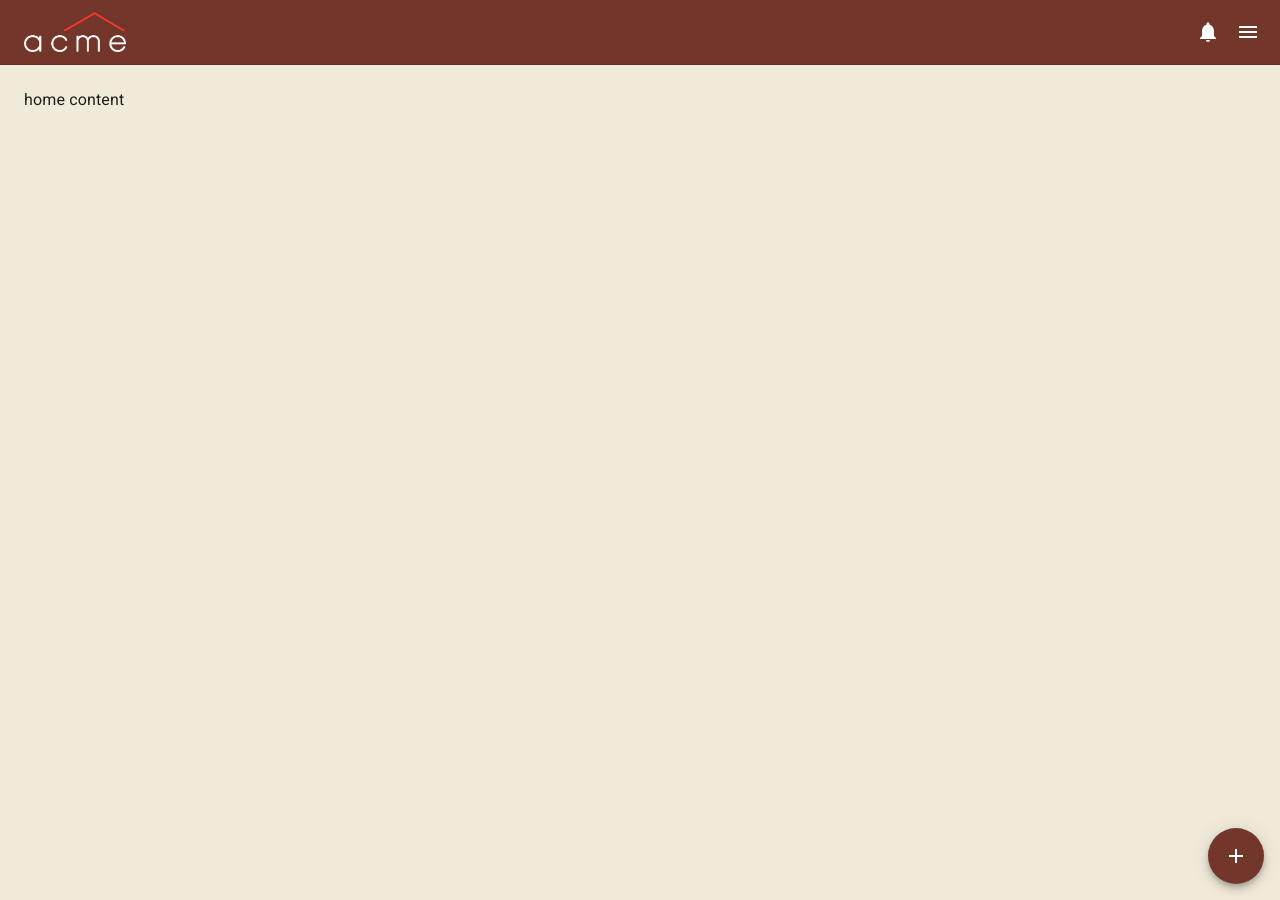
the mobile drawer › carries the account actions
Click the button named "Open navigation" at (1248, 32), box [1228,12,1268,52]
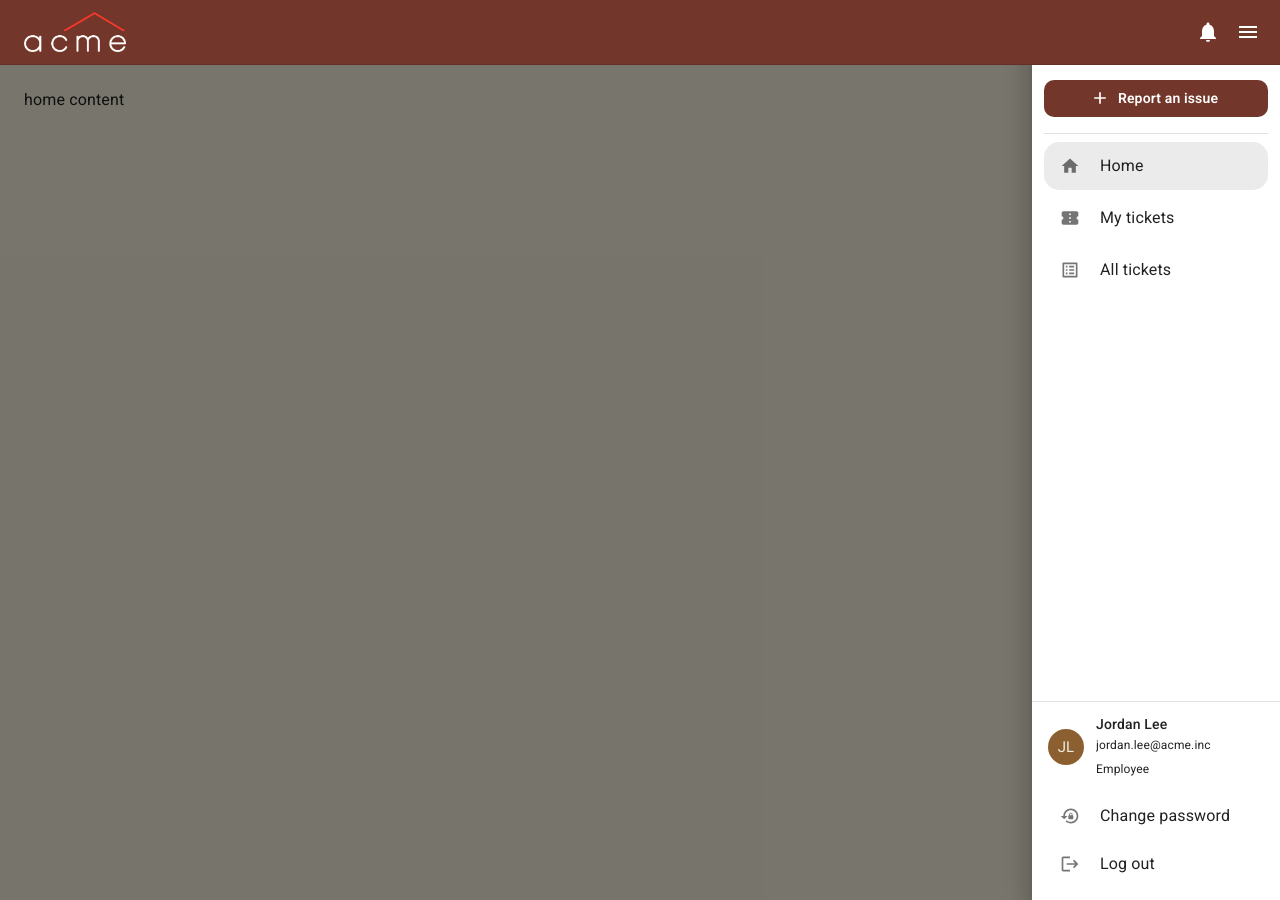
Result: the button "Change password" is shown at [1060,806,1230,826]
Result: the button "Log out" is shown at [1060,854,1155,874]
